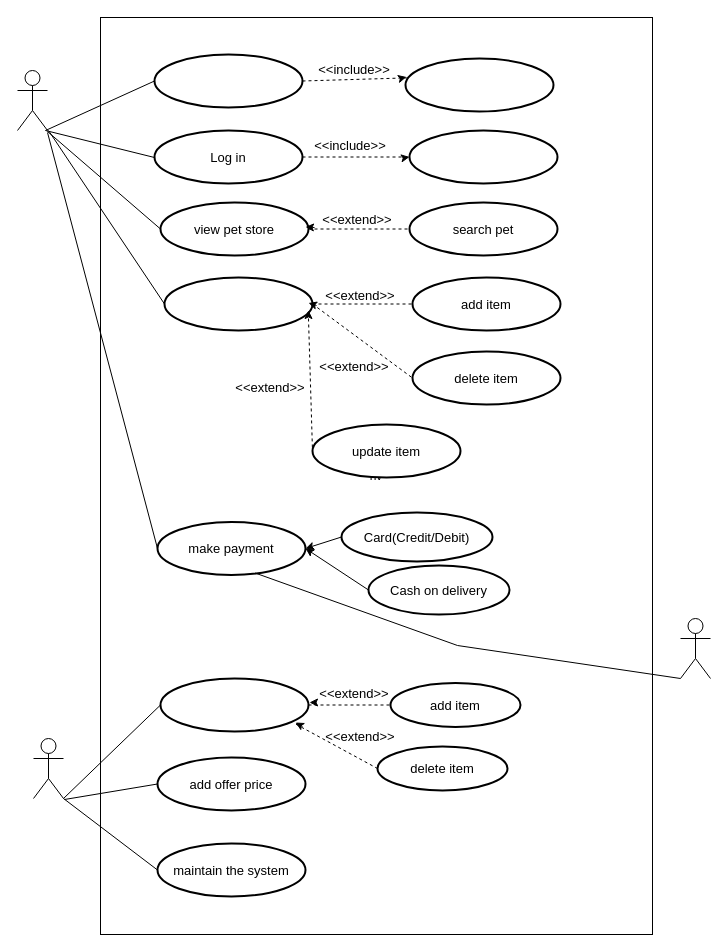
The diagram is 728 pixels wide and 952 high, and some of its shapes have lost their labels. Each missing label, with the centre of its shape:
"Actor" belongs at [695,648].
"Admin" belongs at [48,768].
"create wish list" belongs at [238,303].
"Manage inventory" belongs at [234,704].
"Regestration" belongs at [228,80].
"update information" belongs at [479,84].
"user" belongs at [32,100].
"verify email and password" belongs at [483,156].
